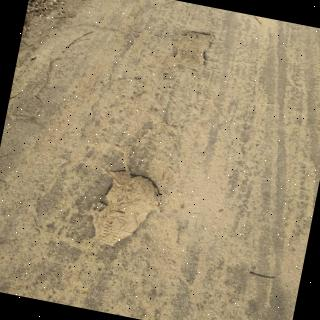pothole: (91, 169, 161, 245), (172, 32, 214, 66)
